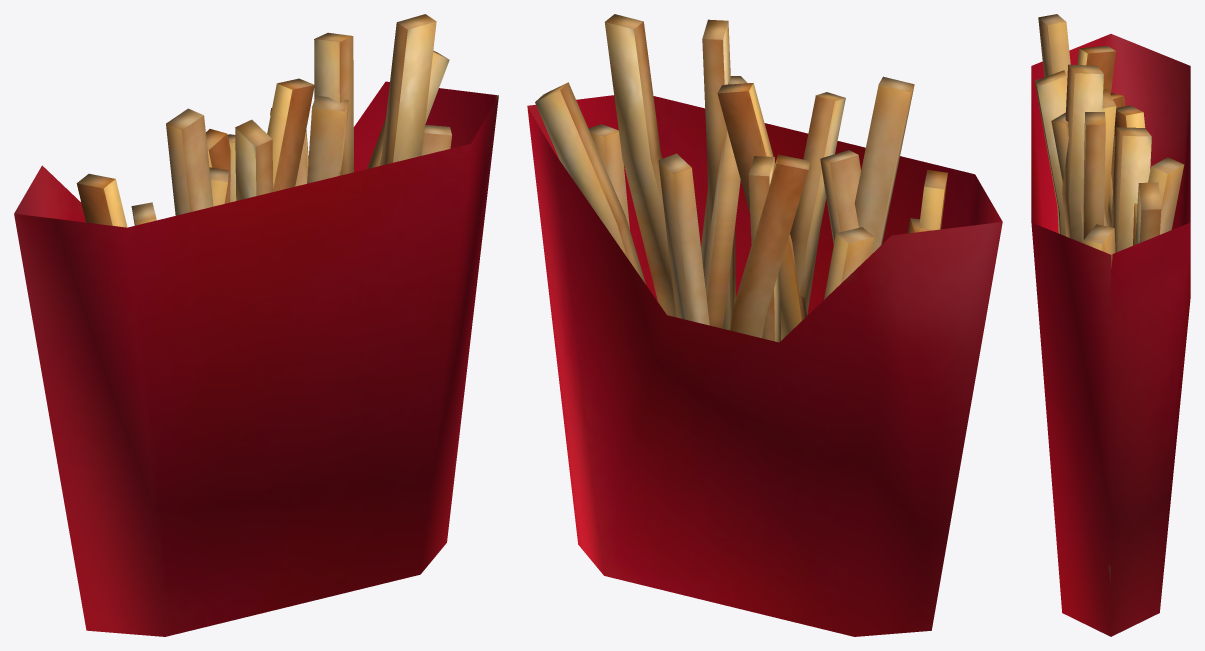
File: French_fries.dae
3 views of the same model, side by side, from view 1: azimuth 30°, elevation 25°; view 2: azimuth 150°, elevation 25°; view 3: azimuth 270°, elevation 25° (orthographic). The views are drawn at different scales.
Visible parts, largest first — view 1: French_fries; view 2: French_fries; view 3: French_fries.
Boxes of the visible parts, left/top/right/bottom form: French_fries: left=14, top=14, right=498, bottom=636; French_fries: left=527, top=14, right=1002, bottom=636; French_fries: left=1031, top=14, right=1190, bottom=636.
Bounding box in the file's own units: 0.1707 × 0.052 × 0.1847.
Materials: 1 (1 with a texture image).
